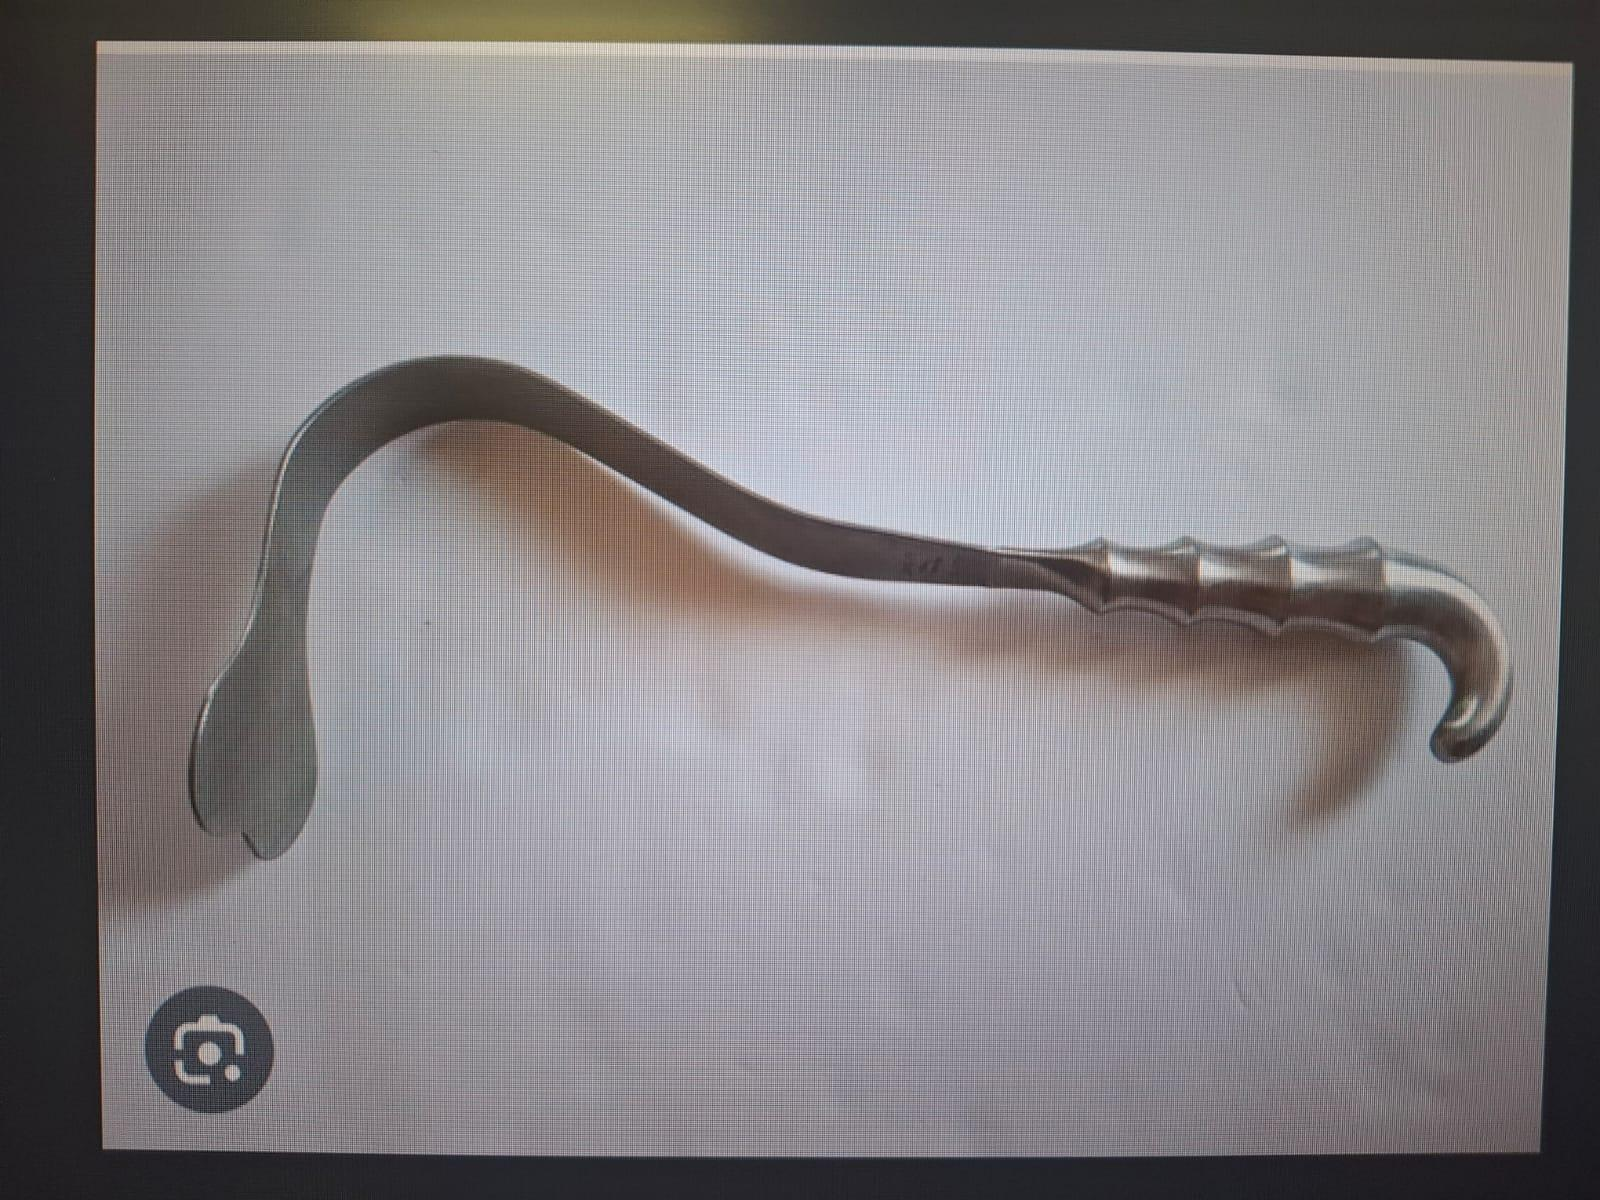Harrington Retractor: (170, 337, 1528, 874)
